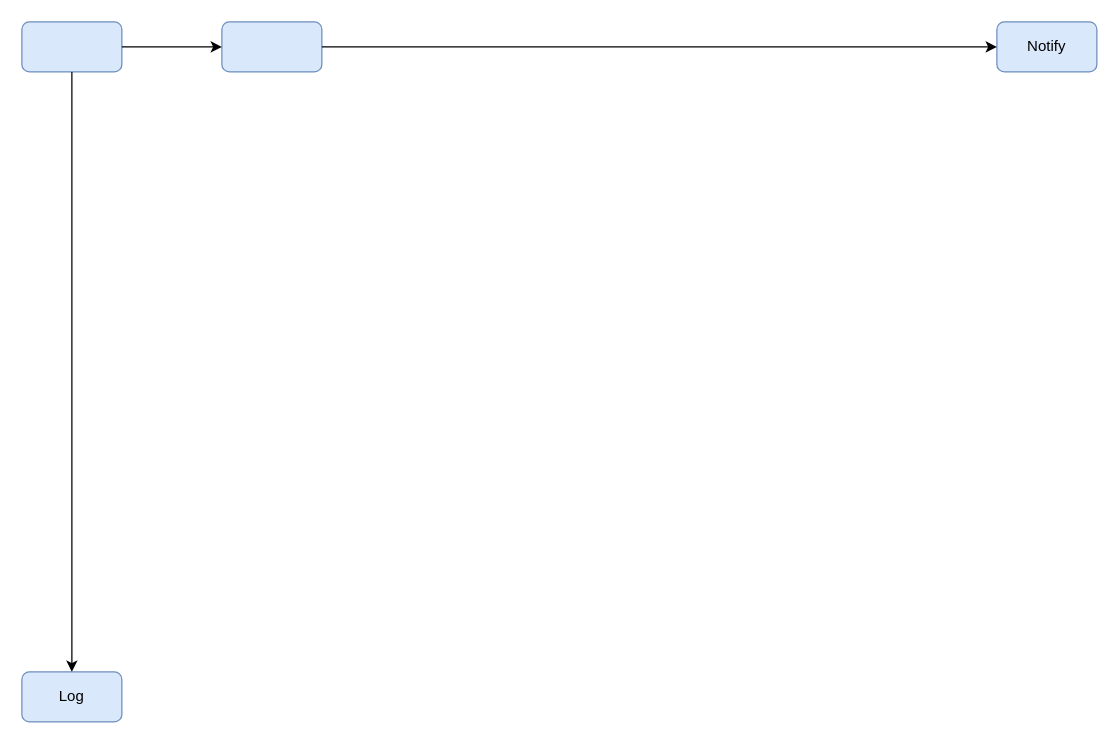
Some shapes in this 1119 by 744 pixel diagram are drawn without their labels. The centre of each missing label's shape, as x and y in pixels:
"Cron" belongs at [71,46].
"Timer" belongs at [271,46].
